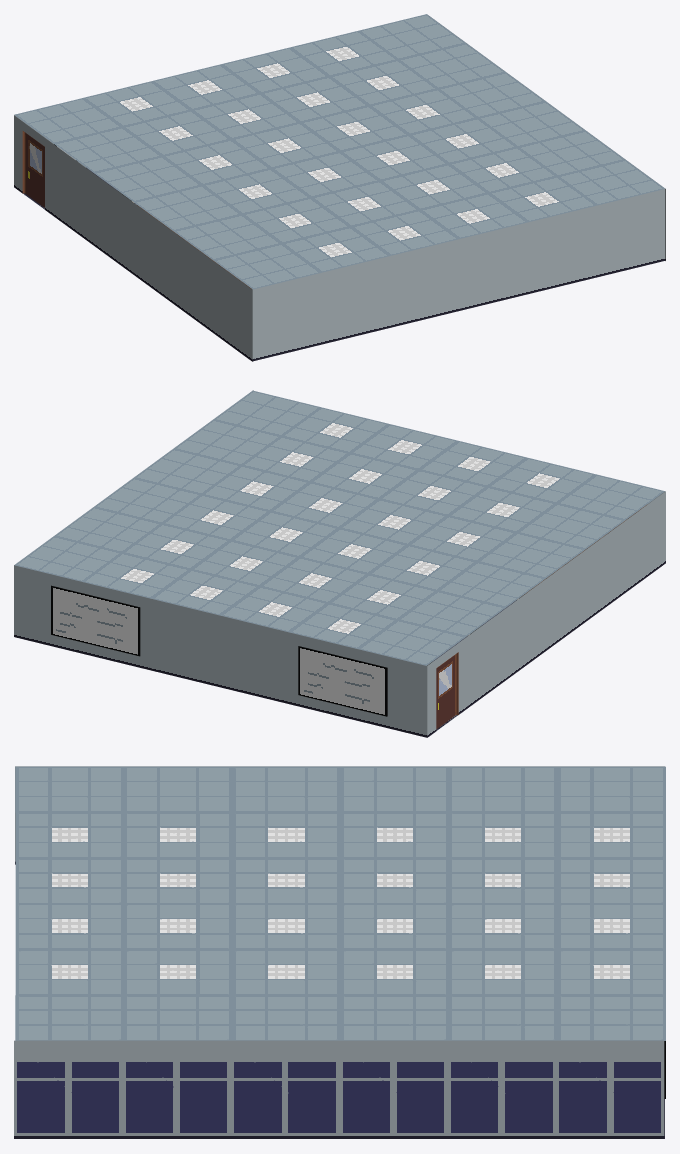
The model's file is ComputerLabR.glb.
The picture shows the model from 3 angles, top to bottom: view 1: azimuth 30°, elevation 25°; view 2: azimuth 150°, elevation 25°; view 3: azimuth 270°, elevation 25°; orthographic projection. The views are drawn at different scales.
Parts seen in each view (by area): view 1: Ceiling2, Wall3, WallDoor; view 2: Ceiling2, Wall, WallDoor, WhiteBoard; view 3: Ceiling2, Wall2, WallDoor.
Boxes of the visible parts, box(x1,y1,x2,y2) form: Ceiling2: box(14, 14, 665, 289); Wall3: box(252, 189, 664, 361); WallDoor: box(14, 115, 252, 361); Ceiling2: box(14, 390, 664, 665); Wall: box(14, 565, 427, 737); WallDoor: box(427, 491, 665, 737); WhiteBoard: box(51, 585, 387, 716); Ceiling2: box(15, 766, 665, 1040); Wall2: box(14, 1040, 664, 1138); WallDoor: box(15, 766, 664, 864).
Size of what is drawn, in the model's own units: 12 by 2.05 by 12.03.
181 materials, 113 textured.
